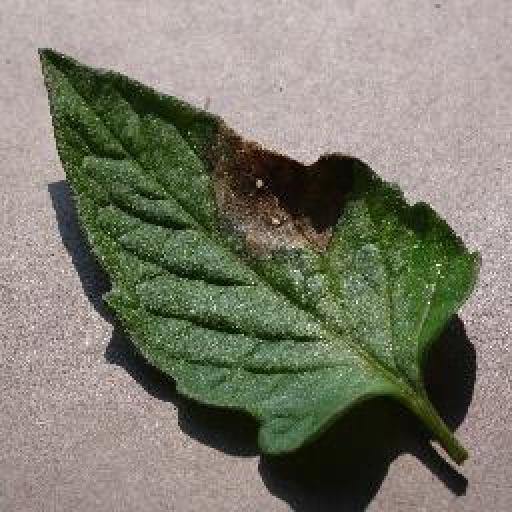disease_tomato: (33, 44, 484, 451)
